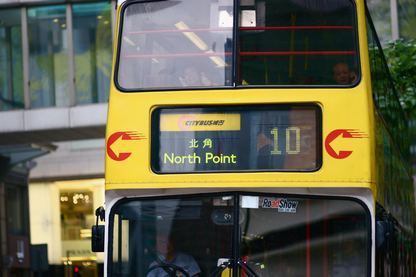bus: (90, 0, 416, 277)
